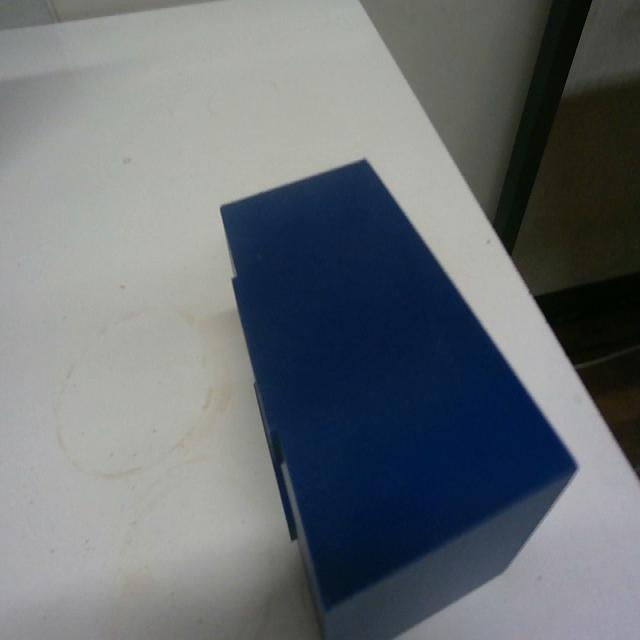Blue Cuboid: (217, 153, 579, 638)
